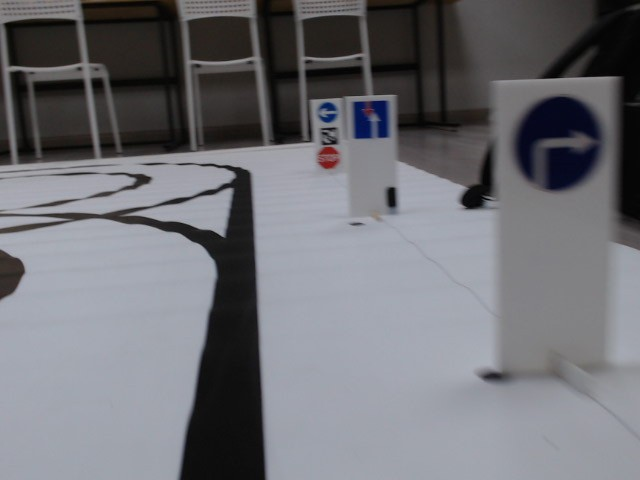Right: (511, 96, 606, 198)
Stop: (315, 146, 344, 170)
priority_movement: (351, 99, 391, 141)
